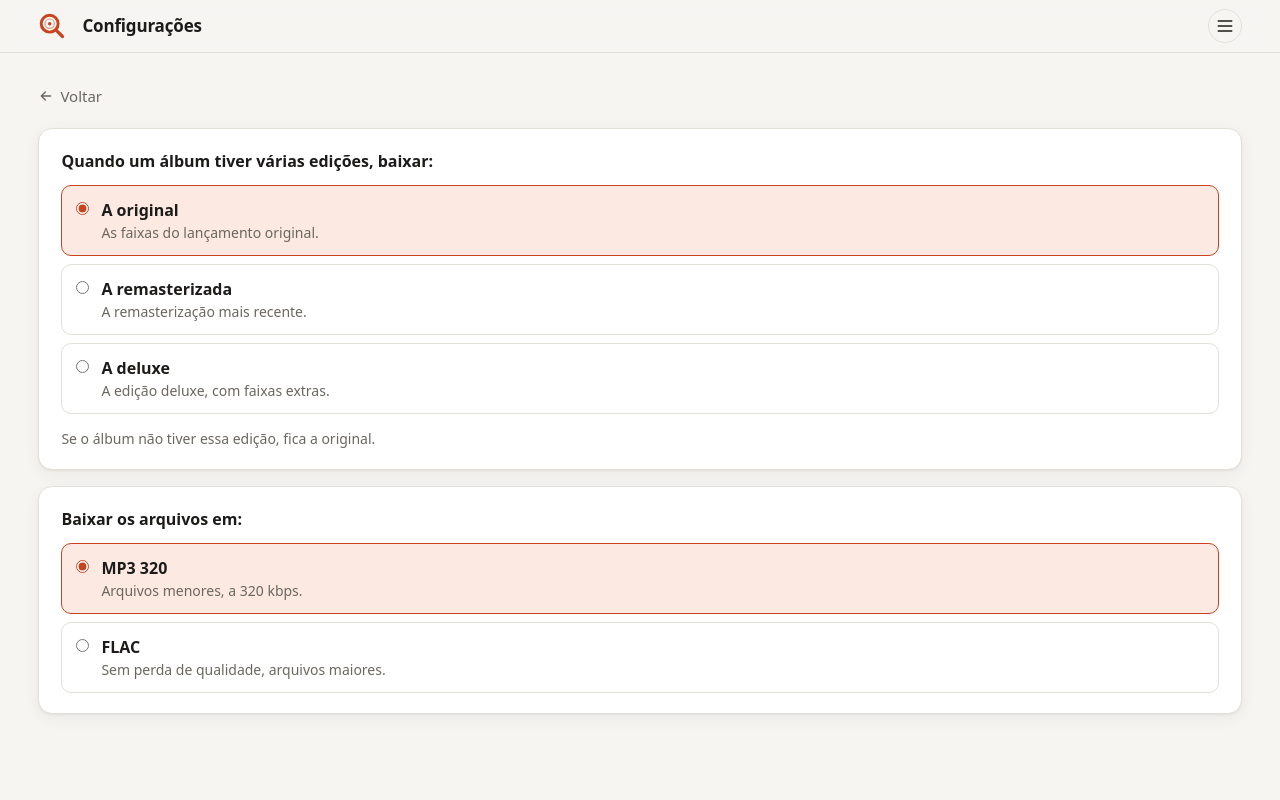
Test: SettingsPage › volta à qualidade anterior quando não consegue salvar
Click the radio button labelled "FLAC Sem perda de qualidade, arquivos maiores." at (83, 645), box [76,638,89,652]
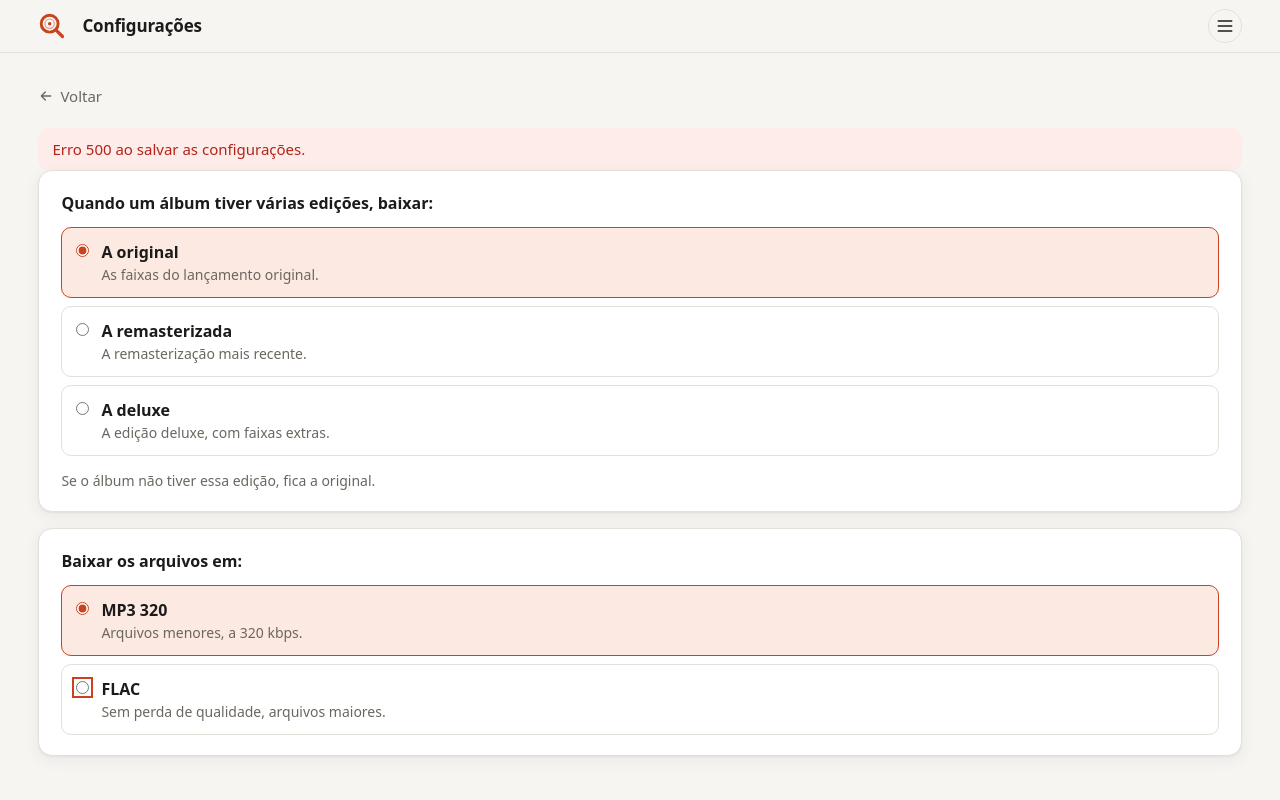
Expected: the radio button labelled "MP3 320 Arquivos menores, a 320 kbps." is checked, [76,602,89,615]
Expected: the message reads "Erro 500 ao salvar as configurações.", [52,138,305,158]
